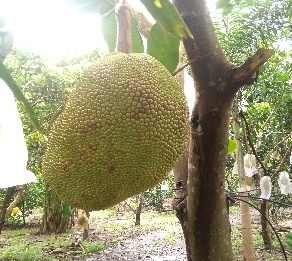Mit: (40, 53, 189, 211)
